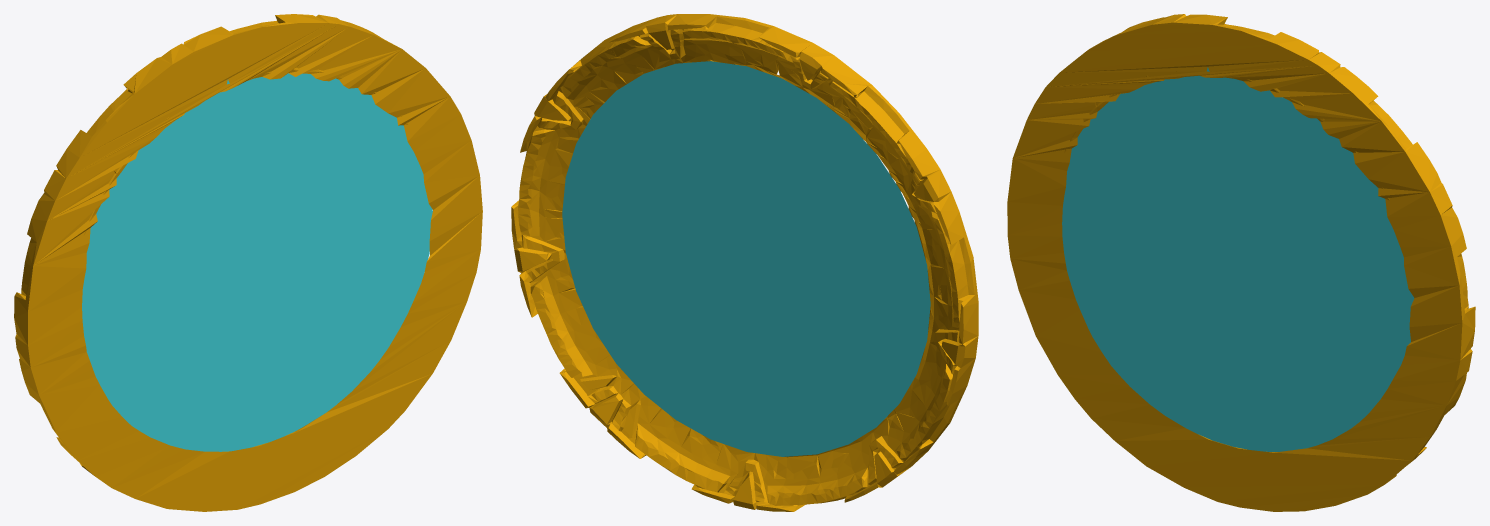
The model's file is portal.gltf.
3 renders of one model, left to right at view 1: azimuth 30°, elevation 25°; view 2: azimuth 150°, elevation 25°; view 3: azimuth 330°, elevation 25°, orthographic.
Visible parts, largest first — view 1: Circle, uploads files 925088 SGDEF; view 2: Circle, uploads files 925088 SGDEF; view 3: Circle, uploads files 925088 SGDEF.
Part boxes in pixels (left/top/right/bottom): Circle: left=82, top=73, right=432, bottom=451; uploads files 925088 SGDEF: left=14, top=14, right=482, bottom=511; Circle: left=562, top=61, right=930, bottom=456; uploads files 925088 SGDEF: left=511, top=14, right=978, bottom=511; Circle: left=1062, top=67, right=1414, bottom=451; uploads files 925088 SGDEF: left=1007, top=14, right=1475, bottom=511.
Bounding box in the file's own units: 6.89 × 6.9 × 0.4082.
